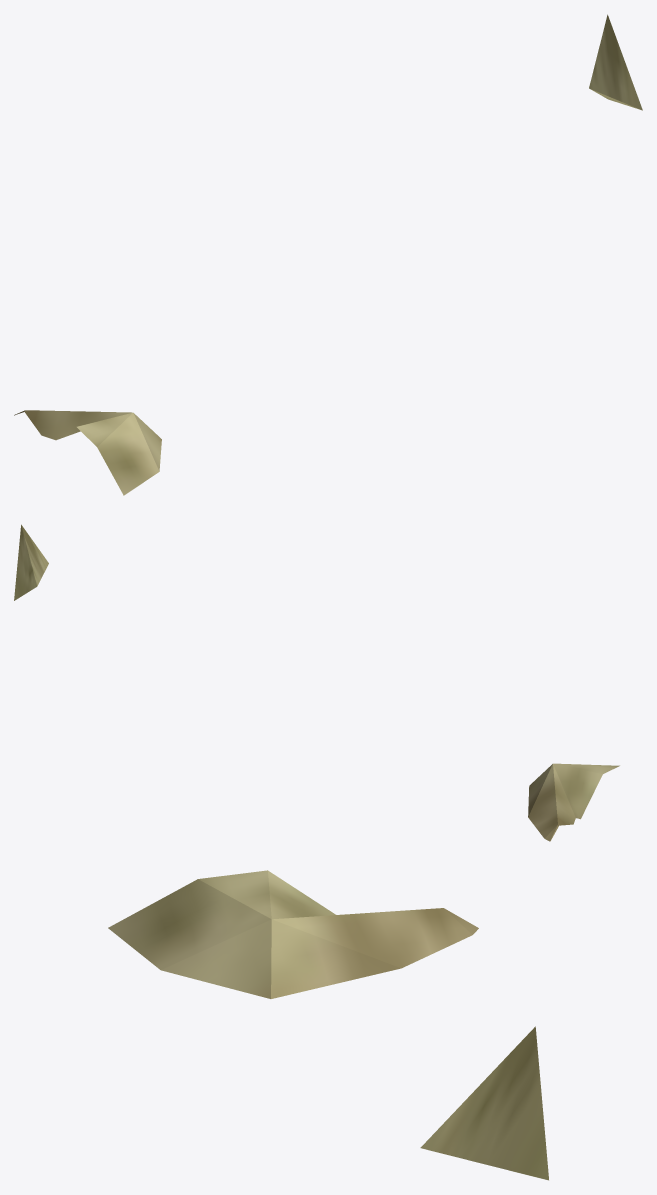
3 views of the same model, one above another, from view 1: azimuth 30°, elevation 25°; view 2: azimuth 150°, elevation 25°; view 3: azimuth 270°, elevation 25° (orthographic). The views are drawn at different scales.
Size of the model in its own units: 0.9943 by 0.3703 by 0.3664.
1 material, 1 textured.
